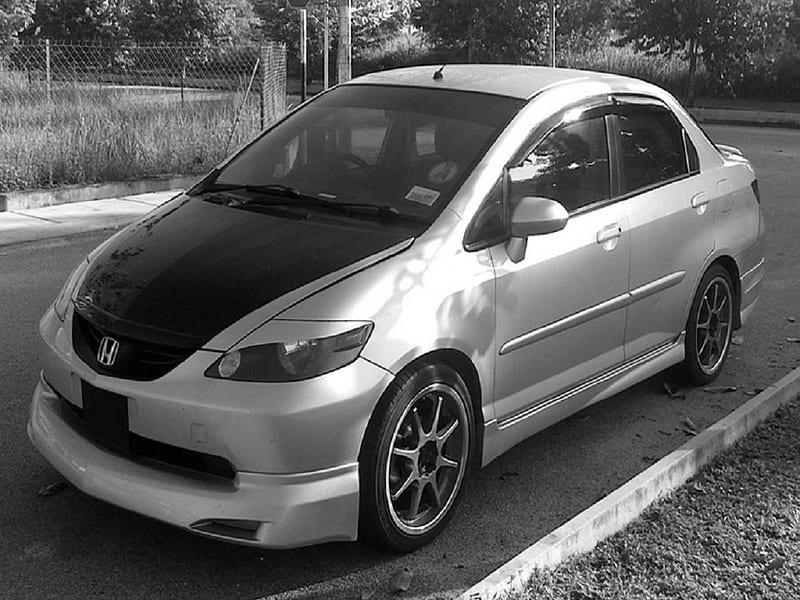Car hood: (57, 190, 420, 356)
Fender - -F-L-: (360, 202, 504, 470)
Fender - -R-L-: (678, 163, 782, 373)
Front bumper: (15, 328, 393, 559)
Headlight - -L-: (200, 310, 383, 391)
Headlight - -R-: (44, 244, 101, 323)
Passenger-s door - -F-L-: (483, 84, 627, 429)
Passenger-s door - -R-L-: (605, 81, 732, 362)
Rear bumper: (734, 237, 774, 345)
Rear light - -L-: (747, 175, 776, 209)
Side bumper - -L-: (470, 329, 701, 479)
Side mirror - -L-: (499, 180, 572, 272)
